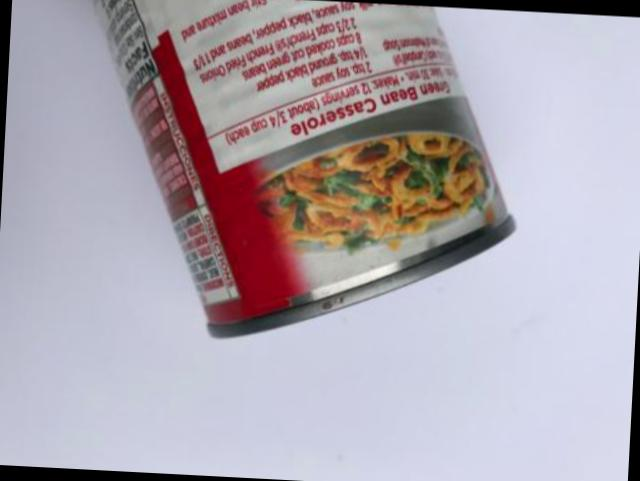metal: (96, 0, 516, 338)
